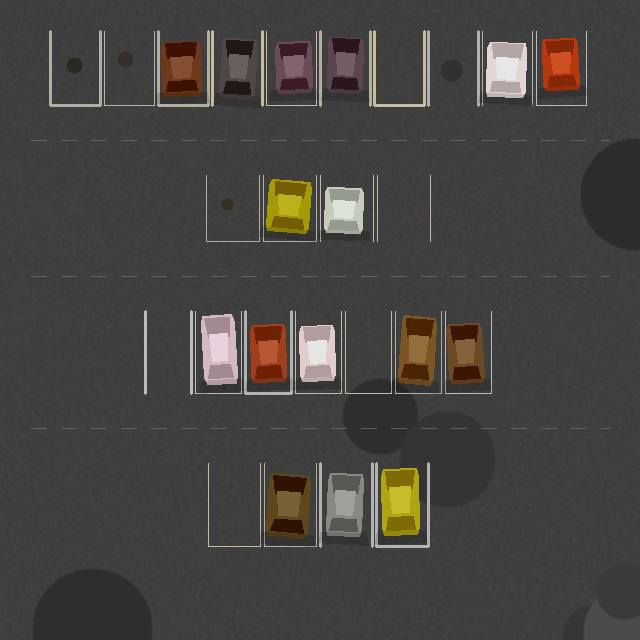space-empty: (208, 463, 260, 546), (145, 311, 191, 393), (345, 311, 391, 393), (50, 31, 100, 105), (104, 31, 154, 105), (374, 31, 424, 105), (428, 31, 478, 105), (206, 175, 259, 241), (377, 175, 430, 241)
space-occupied: (264, 463, 316, 546), (320, 463, 372, 546), (376, 463, 428, 546), (195, 311, 241, 393), (245, 311, 291, 393), (295, 311, 341, 393), (395, 311, 441, 393), (445, 311, 491, 393), (158, 31, 208, 105), (212, 31, 262, 105), (266, 31, 316, 105), (320, 31, 370, 105), (482, 31, 532, 105), (536, 31, 586, 105), (263, 175, 316, 241), (320, 175, 373, 241)
